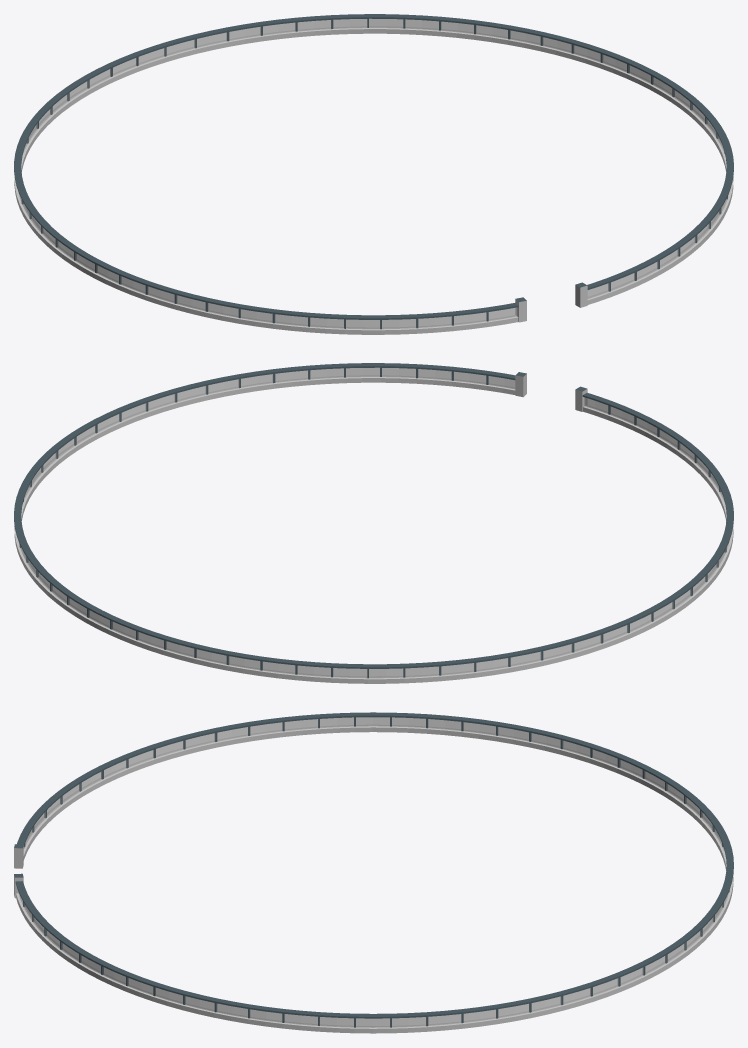
Rendered from PS_Arena_Wall.glb.
The picture shows the model from 3 angles, top to bottom: view 1: azimuth 30°, elevation 25°; view 2: azimuth 150°, elevation 25°; view 3: azimuth 270°, elevation 25°; orthographic projection.
Parts seen in each view (by area): view 1: Arena Wall; view 2: Arena Wall; view 3: Arena Wall.
Boxes of the visible parts, left/top/right/bottom form: Arena Wall: left=14, top=14, right=733, bottom=334; Arena Wall: left=14, top=363, right=733, bottom=683; Arena Wall: left=14, top=712, right=733, bottom=1033.
Size of what is drawn, in the model's own units: 179 by 5.6 by 179.
Materials: 3 (2 with a texture image).
